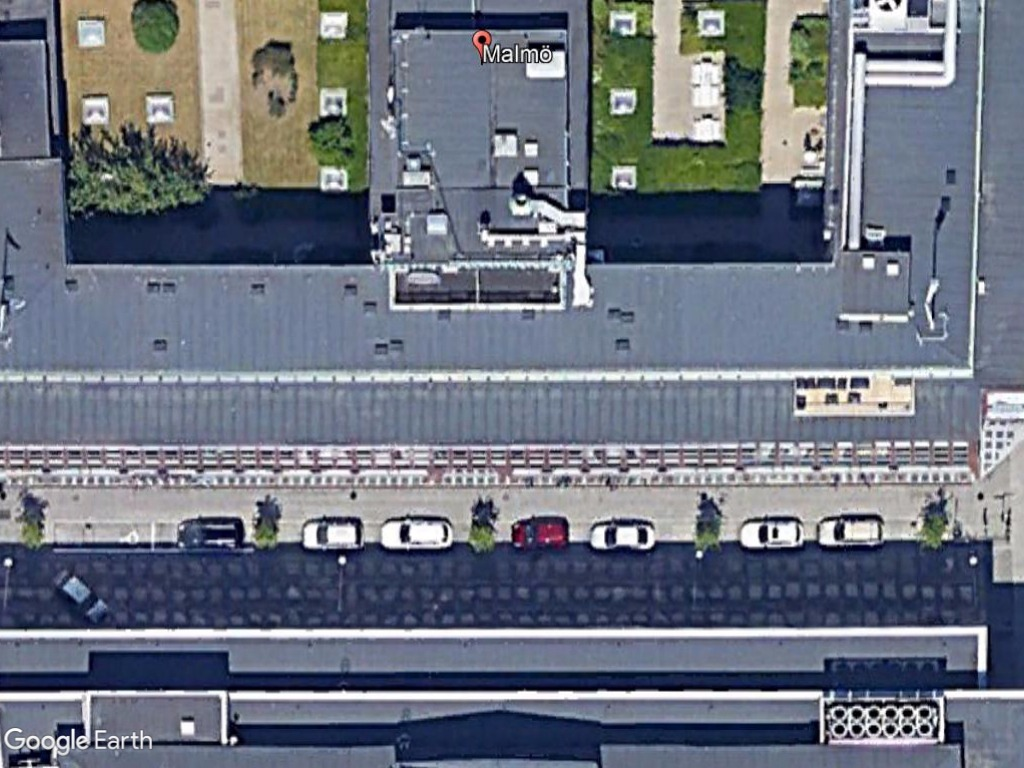car: (47, 564, 114, 629), (375, 515, 457, 554), (811, 512, 890, 550), (295, 515, 370, 554), (582, 517, 661, 554), (173, 515, 248, 553), (507, 512, 572, 554), (734, 517, 811, 551)
